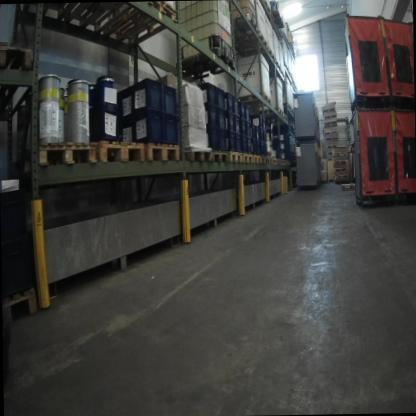pallet: (95, 2, 178, 51), (0, 34, 36, 118), (53, 3, 139, 36), (15, 135, 96, 168), (96, 135, 146, 168), (142, 136, 180, 164), (176, 143, 212, 167), (237, 90, 272, 109), (234, 34, 268, 52), (245, 47, 274, 63), (261, 110, 287, 127), (210, 146, 228, 164), (261, 107, 282, 121), (227, 149, 243, 166), (241, 150, 254, 164), (271, 58, 281, 75), (338, 182, 354, 192), (252, 154, 263, 166), (333, 172, 349, 180), (332, 158, 349, 165), (331, 151, 349, 156), (283, 102, 291, 113), (321, 106, 335, 112), (323, 113, 337, 119), (324, 128, 337, 134), (266, 156, 273, 167), (325, 136, 339, 141), (332, 167, 349, 171), (327, 141, 338, 147), (323, 121, 337, 125), (261, 156, 267, 165), (273, 157, 277, 165), (327, 152, 333, 156), (326, 158, 332, 162)
small_load_carrier: (129, 72, 162, 117), (133, 105, 165, 146), (114, 85, 134, 121), (163, 77, 179, 121), (161, 111, 181, 143), (115, 114, 134, 143), (199, 79, 218, 108), (200, 103, 218, 129), (205, 122, 221, 150), (215, 84, 227, 110), (224, 89, 235, 115), (217, 107, 227, 132), (225, 111, 236, 133), (223, 130, 235, 149), (218, 128, 227, 152), (233, 93, 241, 118), (238, 98, 246, 121), (245, 120, 253, 141), (234, 132, 242, 152), (244, 103, 251, 123), (254, 124, 261, 143), (234, 115, 240, 135), (240, 135, 247, 152), (239, 120, 246, 136), (251, 121, 256, 140), (252, 139, 257, 156), (246, 137, 251, 153), (256, 140, 261, 156), (263, 143, 268, 158), (263, 128, 267, 144), (259, 127, 263, 142), (260, 142, 264, 155)
